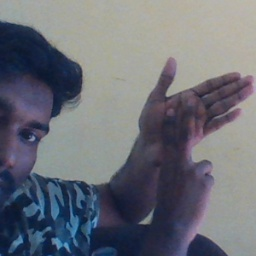N: (136, 55, 256, 205)
